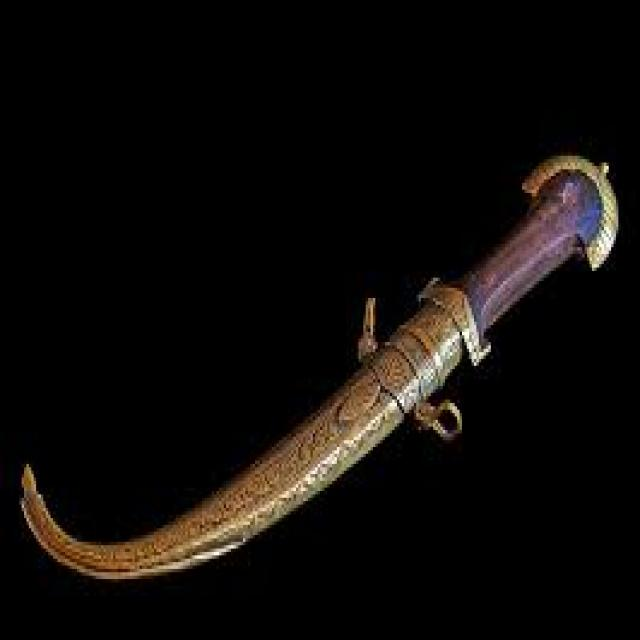Gun: (20, 147, 629, 586)
